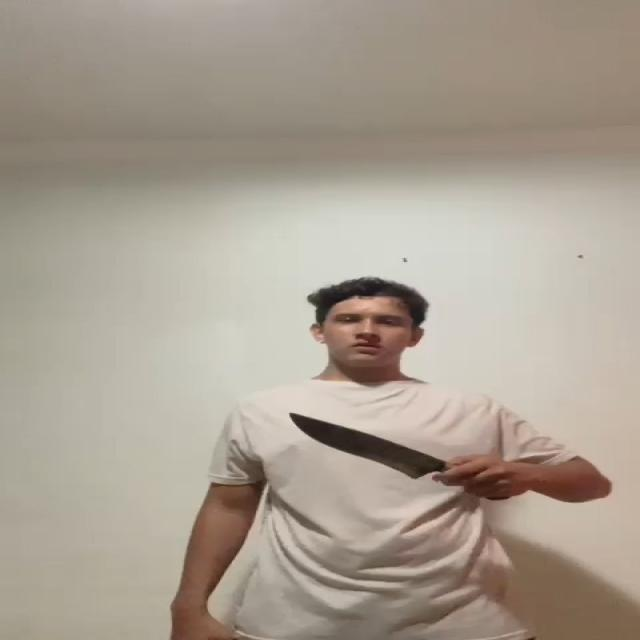knife: (289, 410, 431, 478)
